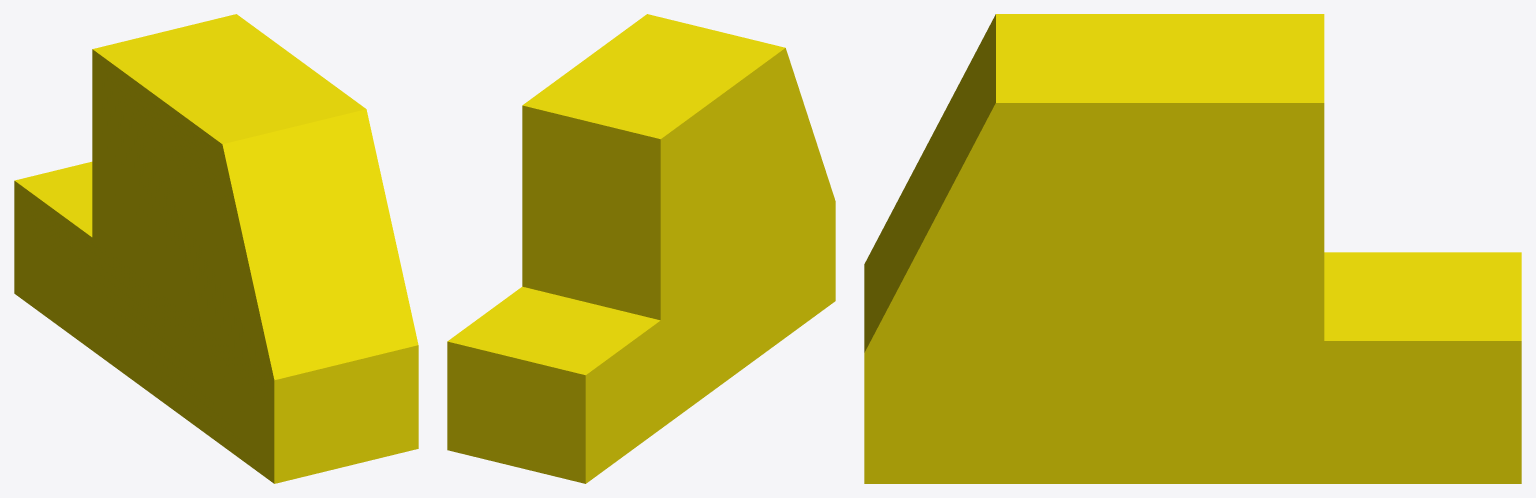
Rendered from modelo_didático_5.glb.
3 renders of one model, left to right at view 1: azimuth 30°, elevation 25°; view 2: azimuth 150°, elevation 25°; view 3: azimuth 270°, elevation 25°, orthographic. The views are drawn at different scales.
Visible parts, largest first — view 1: Modelo didatico 5.SLDPRT; view 2: Modelo didatico 5.SLDPRT; view 3: Modelo didatico 5.SLDPRT.
Boxes of the visible parts, x1,y1,x2,y2 form: Modelo didatico 5.SLDPRT: (14, 14, 418, 483); Modelo didatico 5.SLDPRT: (447, 14, 835, 483); Modelo didatico 5.SLDPRT: (864, 14, 1521, 483).
Bounding box in the file's own units: 0.016 × 0.032 × 0.05.
